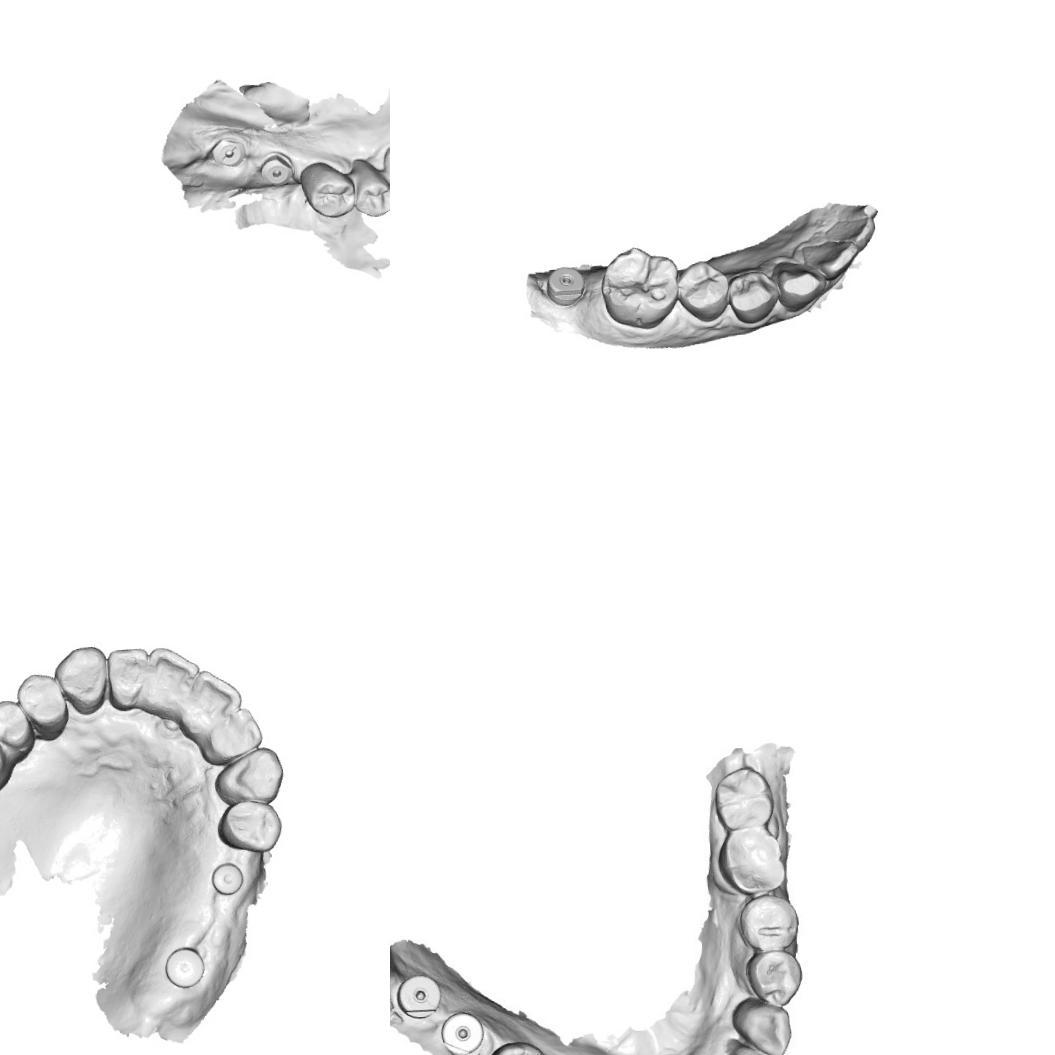canine: (50, 642, 112, 719), (212, 744, 285, 806), (731, 996, 793, 1055), (770, 257, 830, 314)
implant: (392, 970, 446, 1024), (434, 1008, 487, 1055), (161, 943, 208, 991), (543, 262, 587, 308), (256, 148, 298, 189), (208, 859, 246, 897)
implant_minus: (208, 134, 249, 170)
incisor: (139, 642, 204, 720), (178, 665, 245, 737), (199, 704, 265, 764), (102, 644, 154, 712), (797, 238, 863, 282), (820, 216, 879, 253), (730, 1037, 791, 1055)
molar: (596, 241, 681, 334), (722, 822, 788, 893), (715, 766, 776, 829)
premolar: (213, 796, 284, 856), (296, 156, 357, 222), (673, 256, 731, 324), (13, 669, 69, 738), (740, 892, 800, 954), (746, 951, 808, 1009), (724, 265, 782, 326), (349, 162, 390, 219), (0, 694, 35, 753), (484, 1041, 550, 1055)
